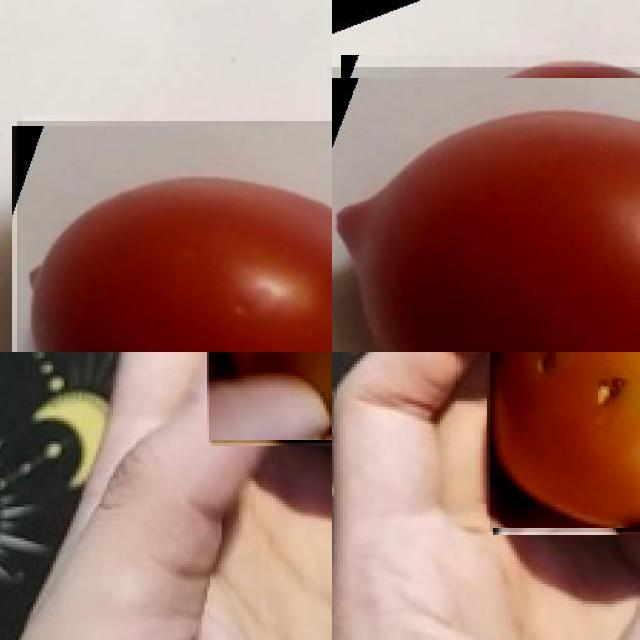Fresh Tomato: (332, 66, 640, 352), (16, 120, 332, 352)
Rotten Tomato: (489, 352, 640, 531)
